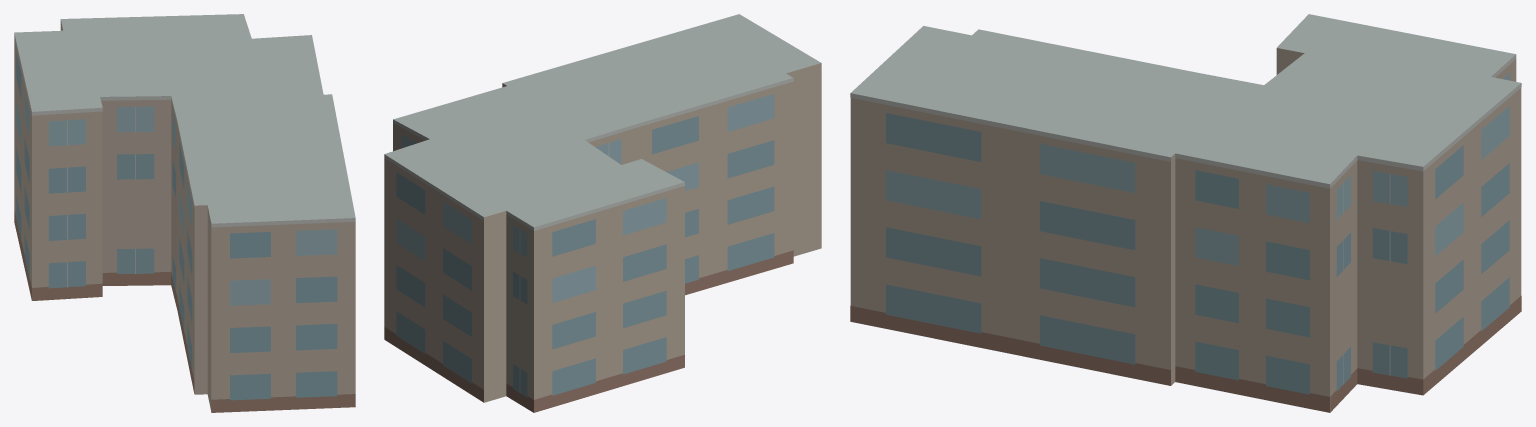
File: survey-upis-33034462.glb
3 renders of one model, left to right at view 1: azimuth 30°, elevation 25°; view 2: azimuth 150°, elevation 25°; view 3: azimuth 270°, elevation 25°, orthographic. The views are drawn at different scales.
Parts seen in each view (by area): view 1: survey-upis-33034462.tmp; view 2: survey-upis-33034462.tmp; view 3: survey-upis-33034462.tmp.
Boxes of the visible parts, x1,y1,x2,y2 form: survey-upis-33034462.tmp: [14, 14, 355, 412]; survey-upis-33034462.tmp: [384, 14, 821, 412]; survey-upis-33034462.tmp: [850, 14, 1521, 412].
Bounding box in the file's own units: 19.66 × 12.3 × 32.73.
